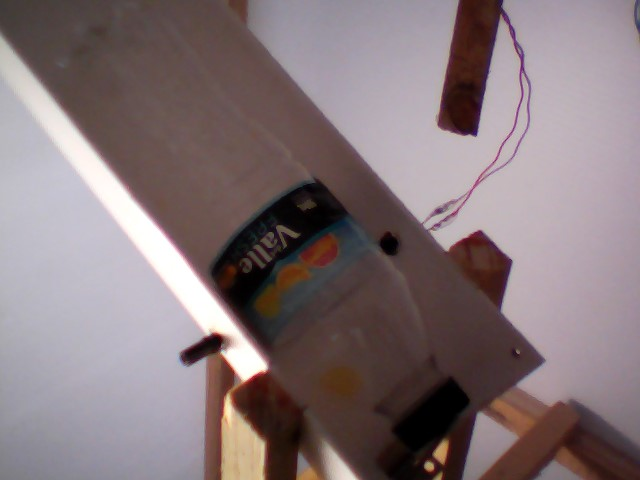plastico: (39, 1, 478, 451)
